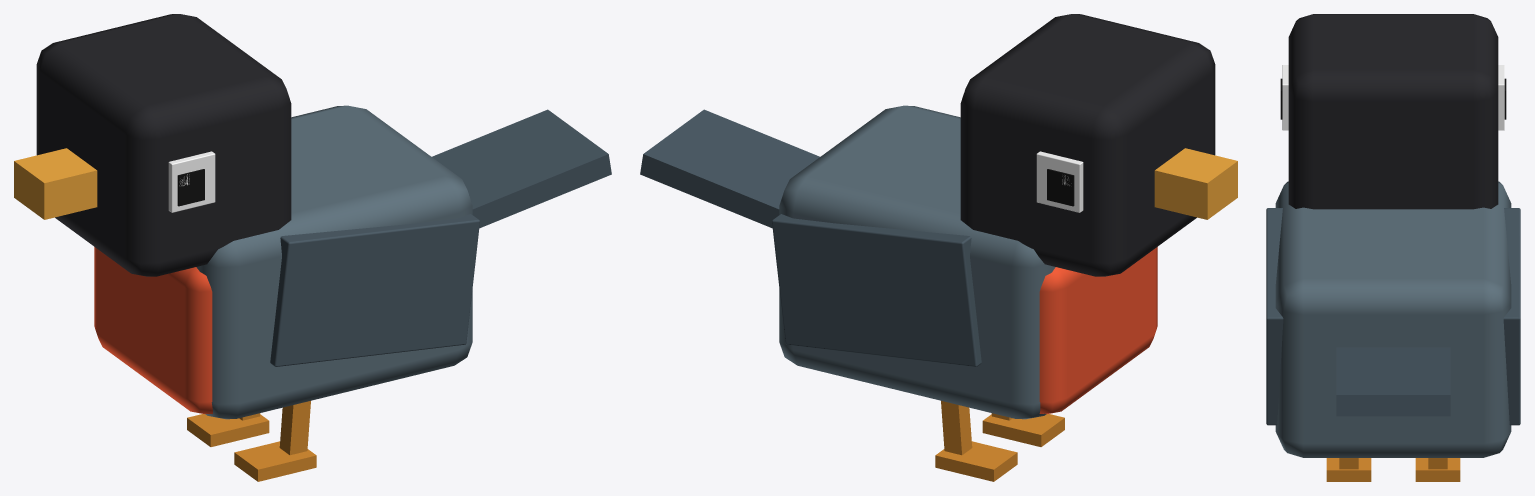
Rendered from robinJ.glb.
3 renders of one model, left to right at view 1: azimuth 30°, elevation 25°; view 2: azimuth 150°, elevation 25°; view 3: azimuth 270°, elevation 25°, orthographic. The views are drawn at different scales.
Visible parts, largest first — view 1: bird_01_Cube.011; view 2: bird_01_Cube.011; view 3: bird_01_Cube.011.
Boxes of the visible parts, x1,y1,x2,y2 form: bird_01_Cube.011: [14, 14, 611, 481]; bird_01_Cube.011: [640, 14, 1237, 481]; bird_01_Cube.011: [1266, 14, 1520, 481].
Bounding box in the file's own units: 279 × 199 × 119.
1 material, 1 textured.
